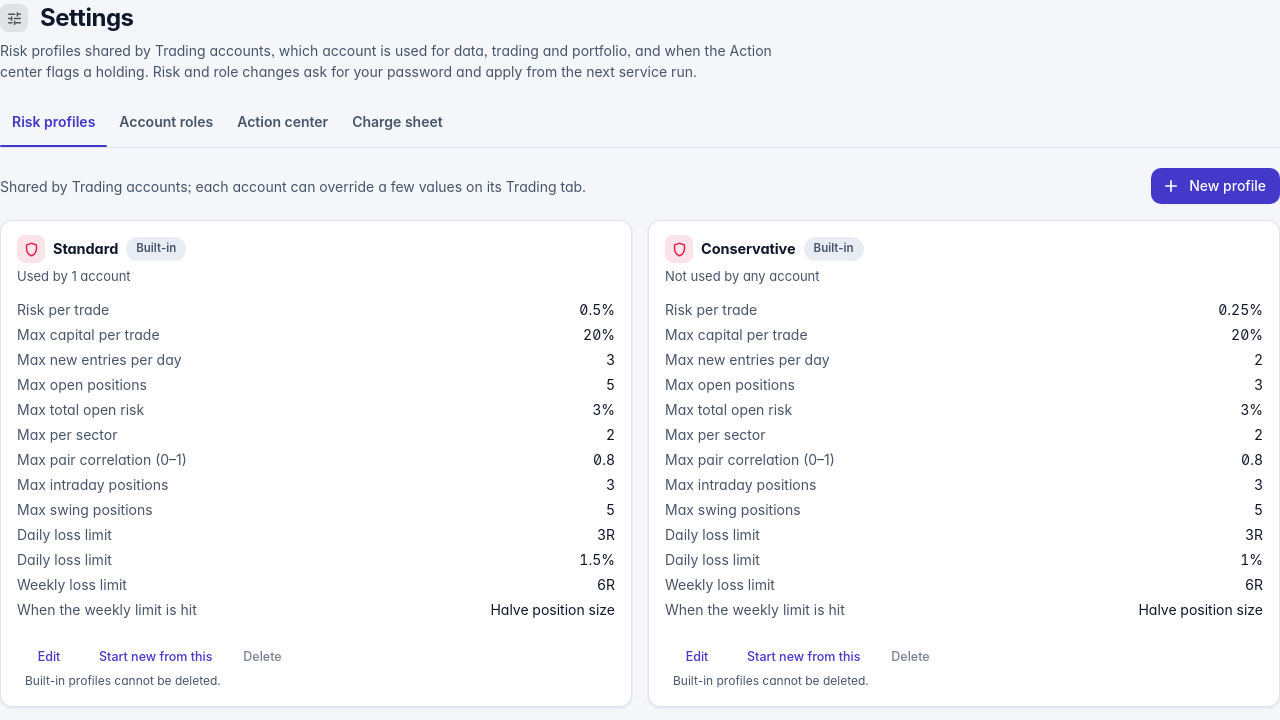
Settings: the charge sheet confirmation › is a tab of Settings that loads on demand, kept in the URL
The width and height of the screenshot is (1280, 720).
Click the tab "Charge sheet" at {"x": 397, "y": 122}, box [340,100,455,144]
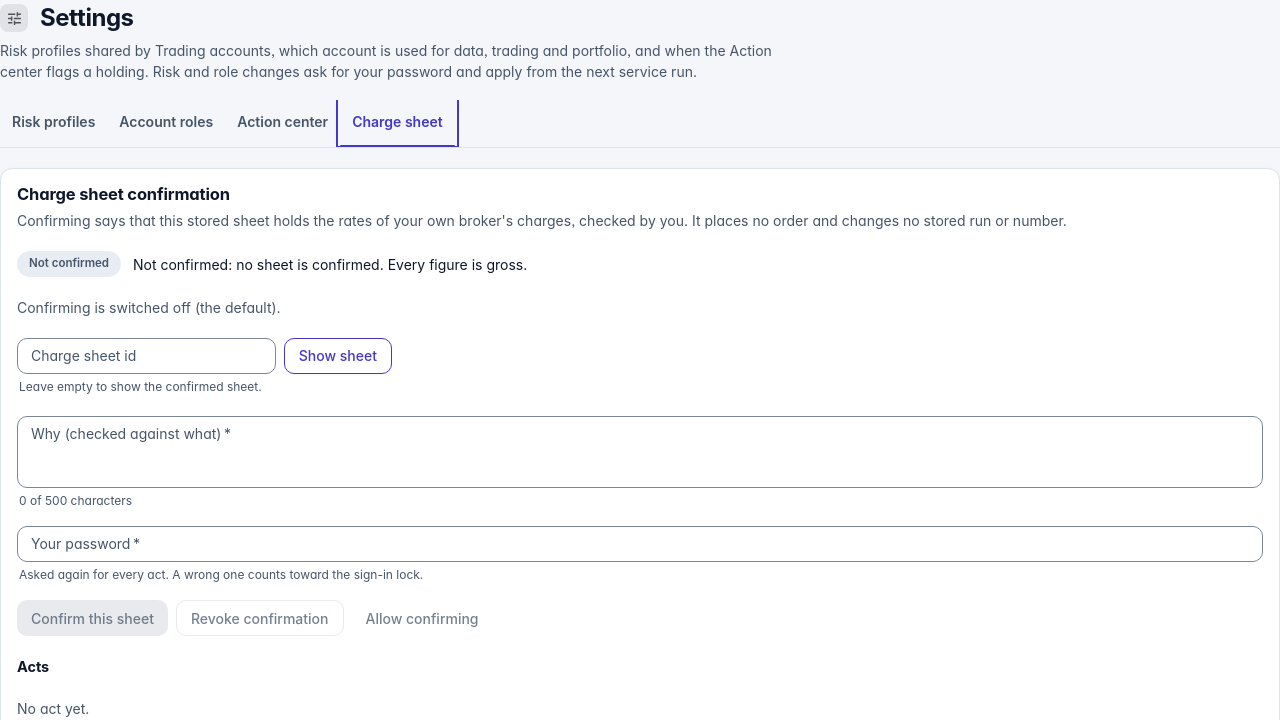
Expected: the heading "Charge sheet confirmation" is shown, [17,184,230,204]
